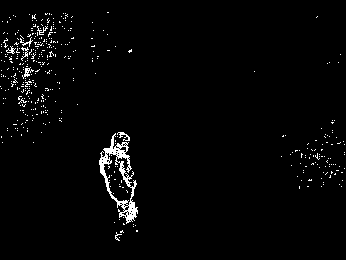person: (96, 128, 142, 242)
